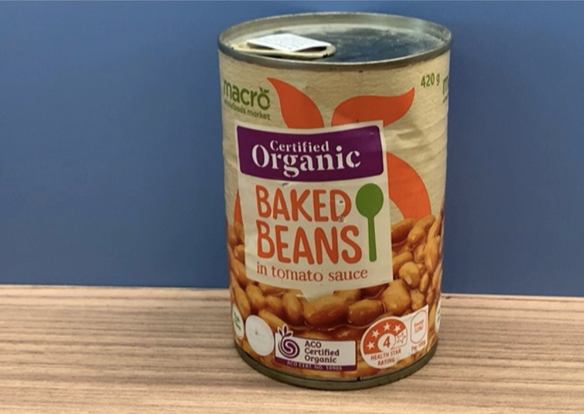Baked beans_450g: (234, 81, 427, 366)
